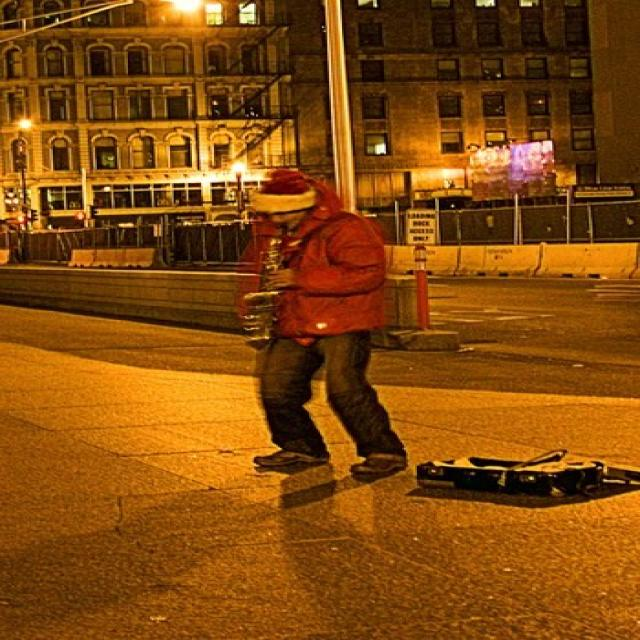saxophone: (241, 223, 308, 356)
